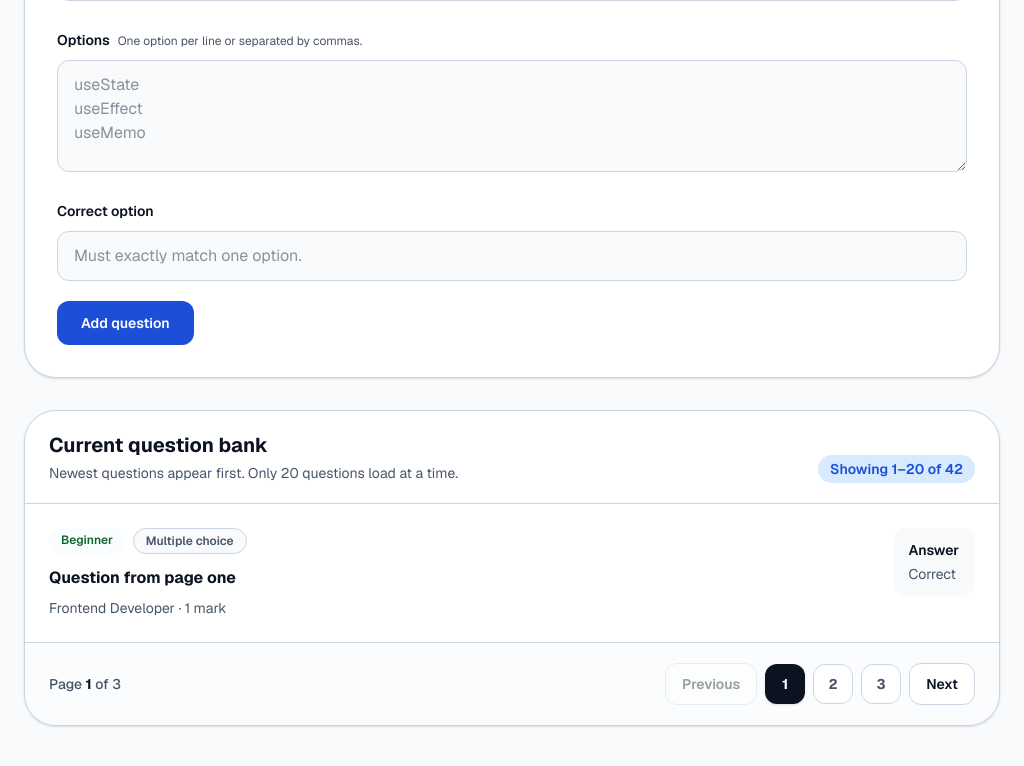
Scenario: AdminQuizClient › requests and displays one question-bank page at a time
The image size is (1024, 766).
(page scrolled)
Expected: the heading "Question from page one" is shown, [49, 566, 247, 590]
Expected: the text "Showing 1–20 of 42" is shown, [818, 455, 975, 483]
Click the button "Next" at (942,684), box [909, 663, 975, 705]
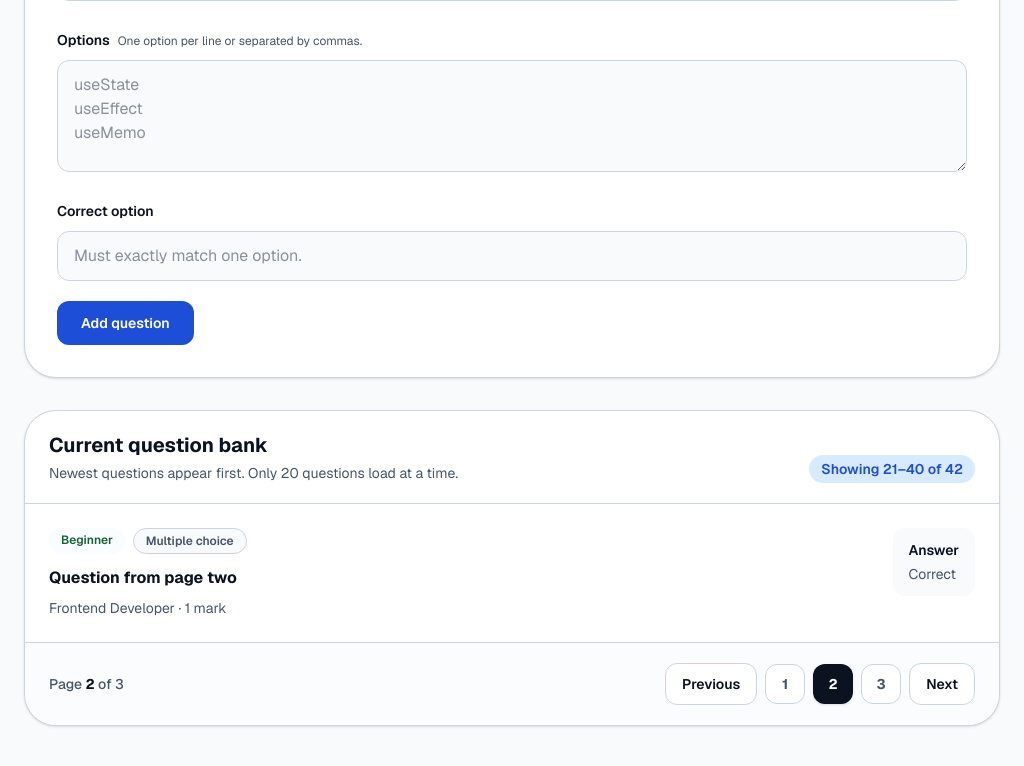
Now the heading "Question from page two" is shown, box [49, 566, 247, 590]
Now the heading "Question from page one" is gone
Now the text "Showing 21–40 of 42" is shown, box [809, 455, 975, 483]
